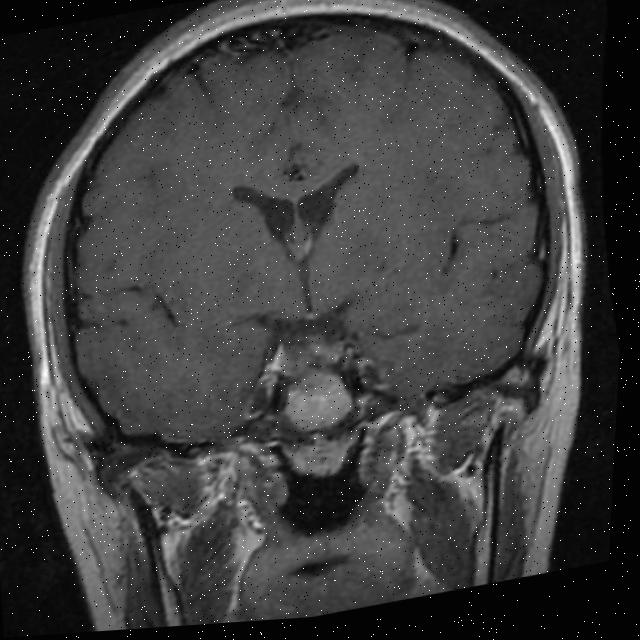Pituitary: (274, 358, 362, 484)
